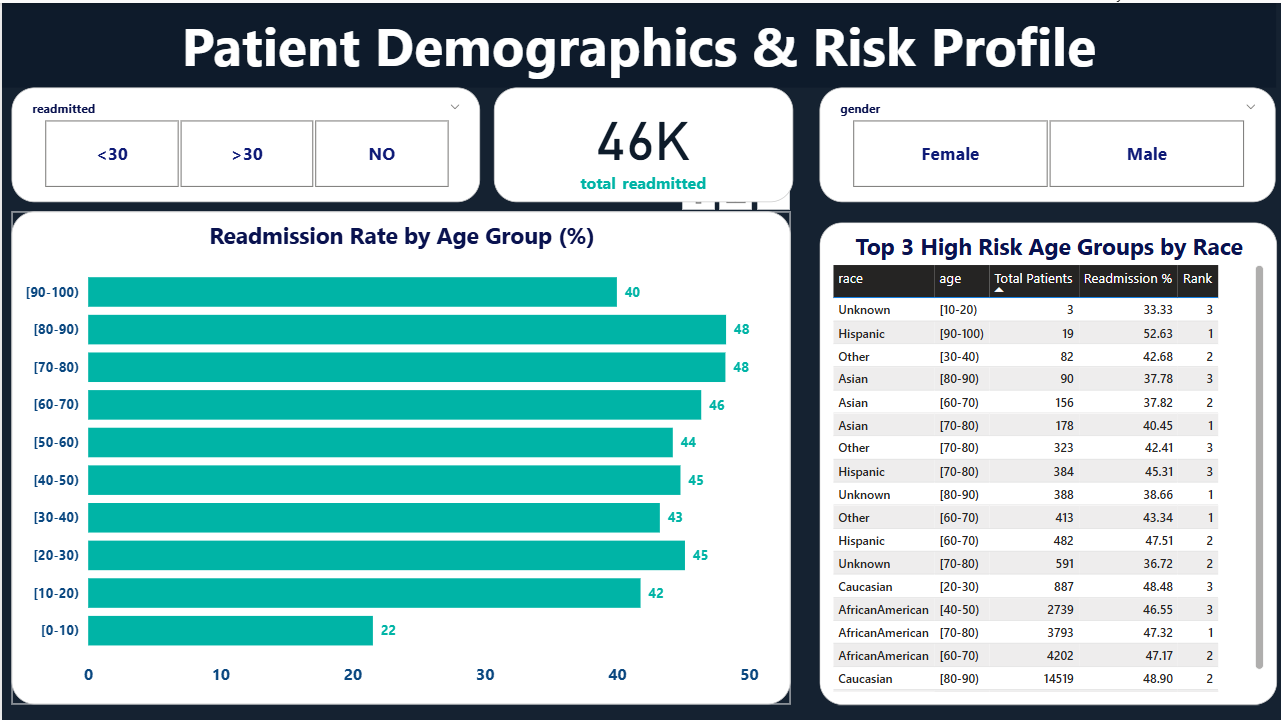

The page's visual inventory and layout, read from the dashboard file:
{"tool":"powerbi","page":{"name":"Patient Demographics & Risk Profile","canvas":[1280,720],"ordinal":1},"visuals":[{"type":"textbox","box":[0,0,1271.1,84.3],"z":0},{"type":"clusteredBarChart","title":"Readmission Rate by Age Group (%)","fields":{"Y":["Sum(q1_age_readmission.readmission_rate_pct)"],"Category":["q1_age_readmission.age"]},"box":[9.5,208,777.6,492.1],"z":1000},{"type":"tableEx","title":"Top 3 High Risk Age Groups by Race","fields":{"Values":["q3_race_age_ranking.race","q3_race_age_ranking.age","Sum(q3_race_age_ranking.total_patients)","Sum(q3_race_age_ranking.readmission_pct)","Sum(q3_race_age_ranking.ranking_order)"]},"box":[815.6,218.9,456.8,481.2],"z":2000},{"type":"slicer","fields":{"Values":["diabetic_data_clean.gender"]},"box":[815.6,84.3,455.4,114.2],"z":3000},{"type":"slicer","fields":{"Values":["diabetic_data_clean.readmitted"]},"box":[9.5,84.3,467.6,114.2],"z":4000},{"type":"card","fields":{"Values":["Sum(q1_age_readmission.total_readmitted)"]},"box":[490.7,84.3,299.1,114.2],"z":5000}]}

Visuals, with their boxes in screenshot pixels (x1, y1, x2, y2), scaled from the page's 1280x720 canvas onto the 1281x720 screenshot:
textbox: region(0, 0, 1272, 84)
"Readmission Rate by Age Group (%)" clusteredBarChart: region(10, 208, 788, 700)
"Top 3 High Risk Age Groups by Race" tableEx: region(816, 219, 1273, 700)
slicer - diabetic_data_clean.gender: region(816, 84, 1272, 198)
slicer - diabetic_data_clean.readmitted: region(10, 84, 477, 198)
card - Sum(q1_age_readmission.total_readmitted): region(491, 84, 790, 198)
